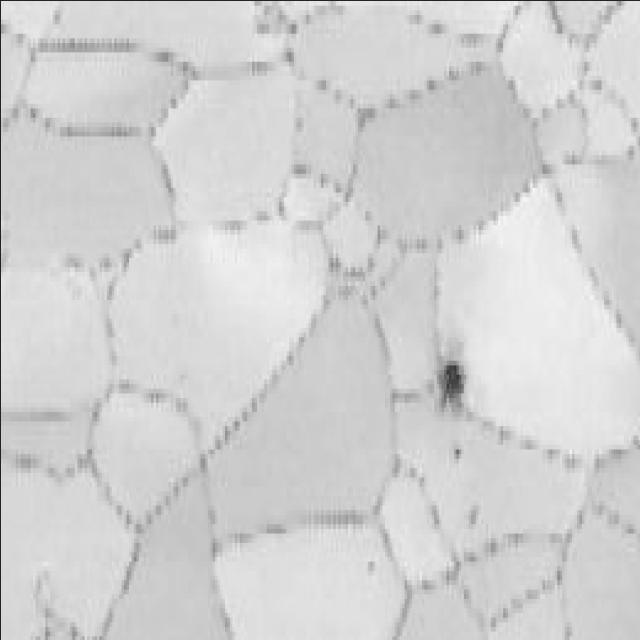good_void: (429, 345, 465, 407), (465, 502, 476, 528), (450, 445, 464, 465), (364, 556, 373, 573)
